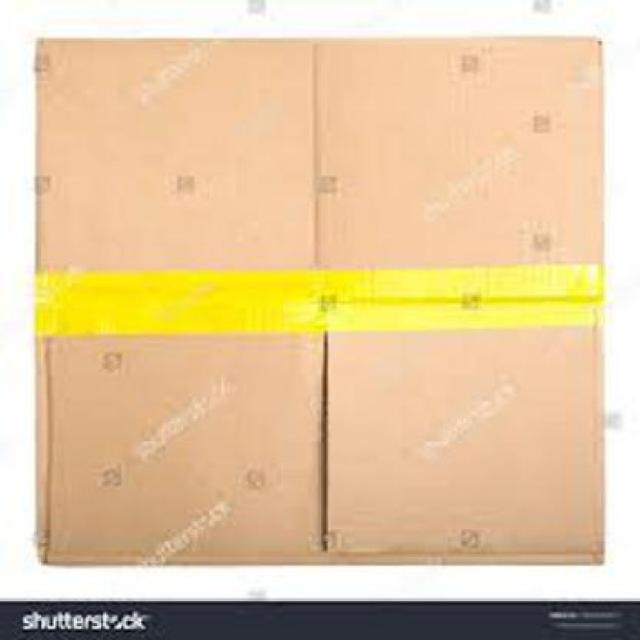normal: (32, 32, 638, 577)
